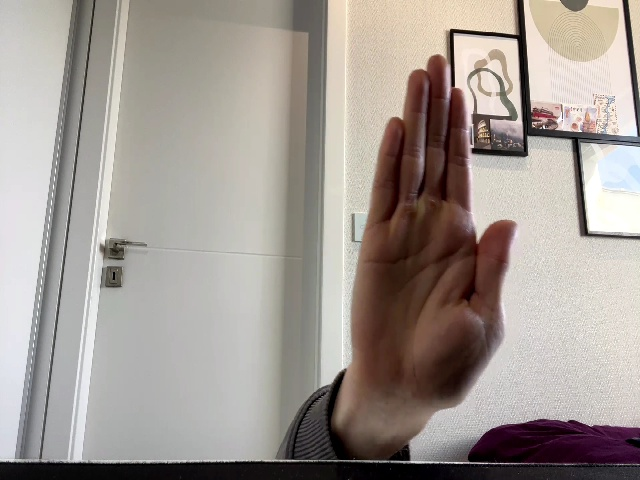B: (352, 55, 518, 409)
